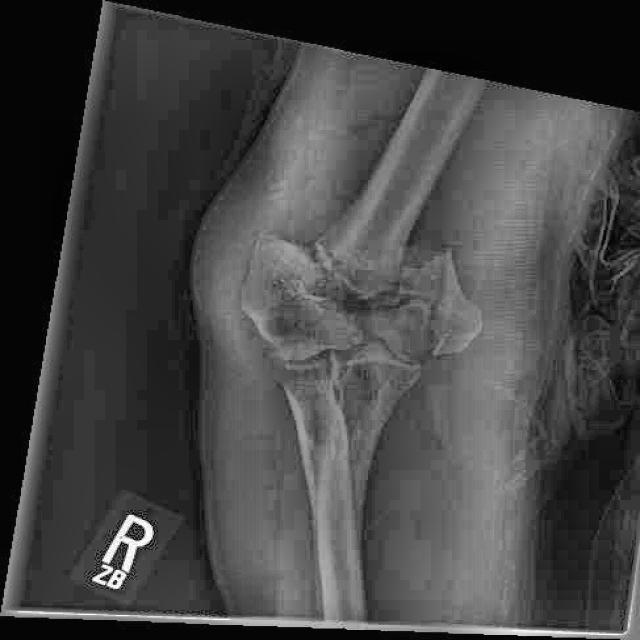elbow positive: (234, 201, 369, 282), (388, 240, 491, 309)
